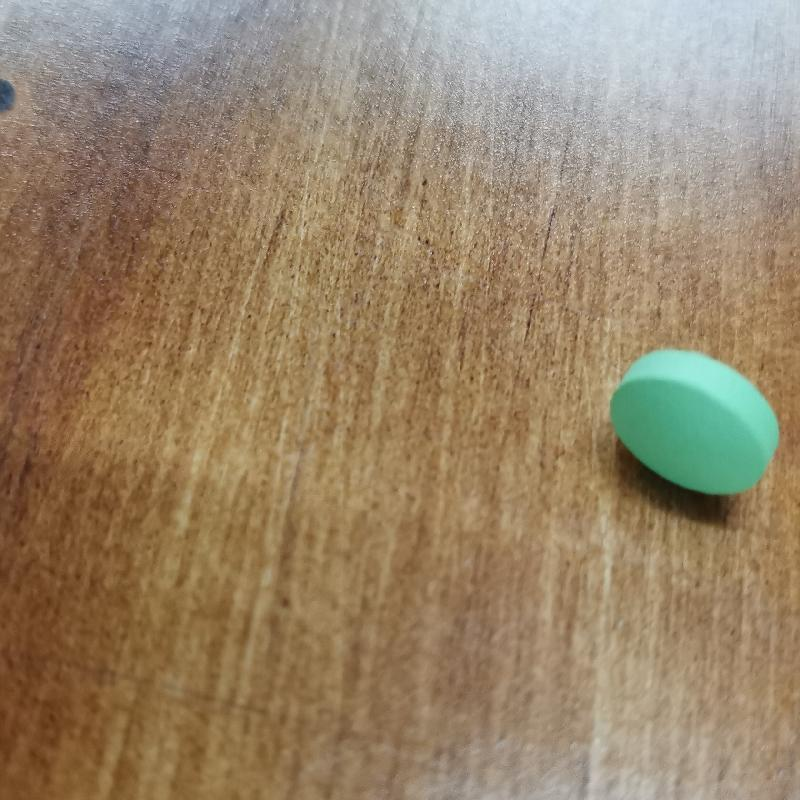pills: (609, 342, 800, 522)
